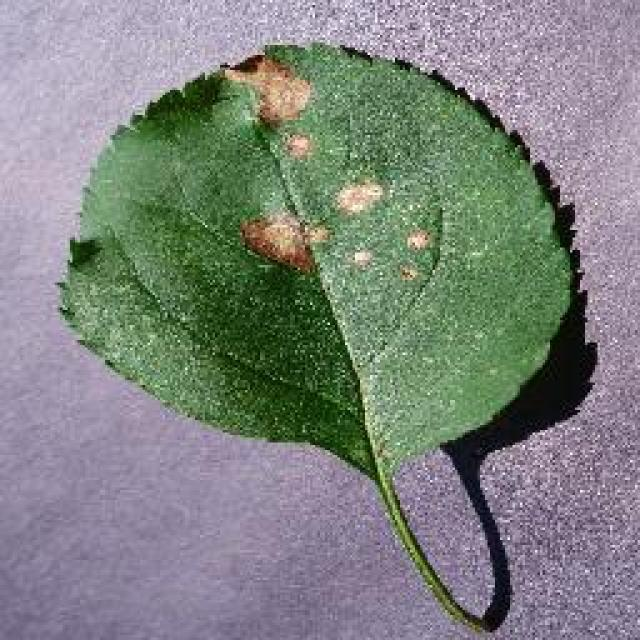Black_rot: (55, 38, 580, 632)
